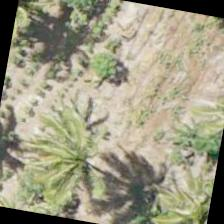Kelapa_Sawit: (22, 102, 126, 206), (151, 158, 217, 223)
